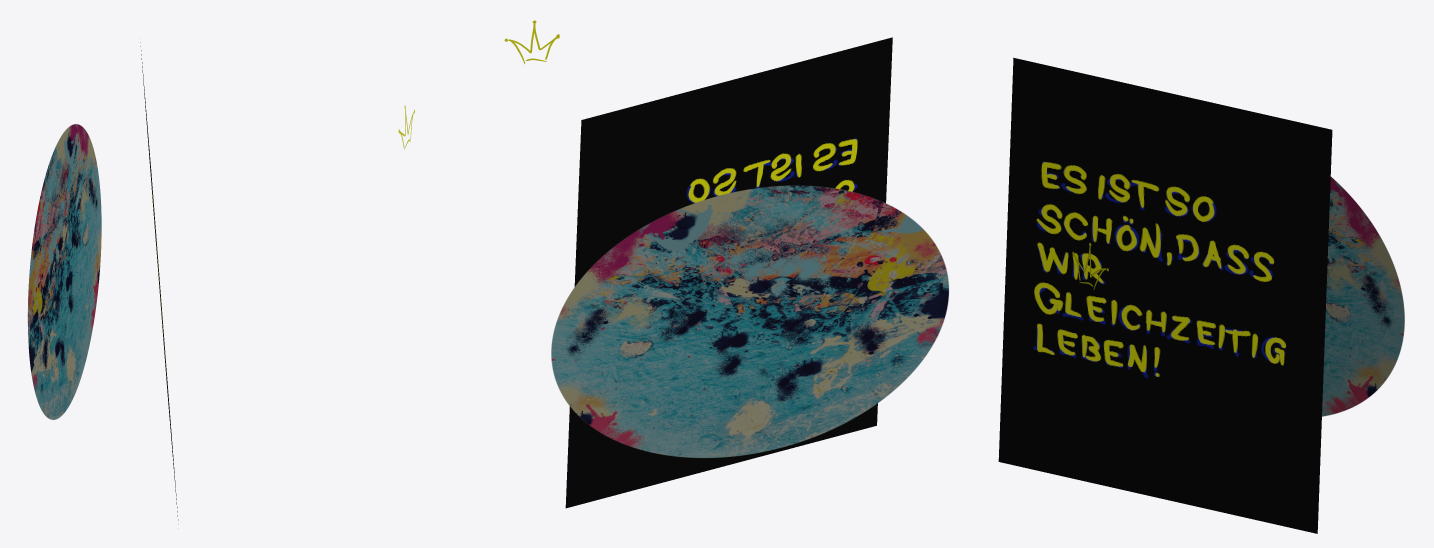
The model's file is queen_krone_gleichzeitig_leben-5.glb.
3 views of the same model, side by side, from view 1: azimuth 30°, elevation 25°; view 2: azimuth 150°, elevation 25°; view 3: azimuth 270°, elevation 25° (orthographic). The views are drawn at different scales.
Parts seen in each view (by area): view 1: Fläche, Fläche.002; view 2: Fläche, Fläche.002; view 3: Fläche.002, Fläche.
Part boxes in pixels (left/top/right/bottom): Fläche: left=27, top=124, right=101, bottom=419; Fläche.002: left=140, top=42, right=178, bottom=520; Fläche: left=551, top=185, right=948, bottom=457; Fläche.002: left=565, top=37, right=892, bottom=508; Fläche.002: left=998, top=57, right=1332, bottom=533; Fläche: left=1322, top=176, right=1404, bottom=416.
Size of the model in its own units: 1 by 0.795 by 0.784.
3 materials, 3 textured.
